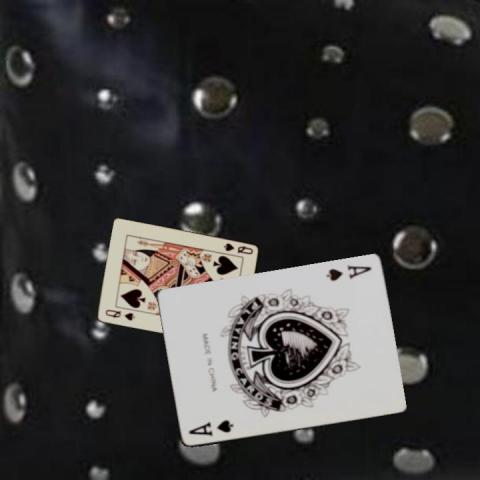As: (322, 262, 373, 283), (185, 418, 235, 438)
Qs: (221, 240, 255, 256), (103, 306, 136, 322)
